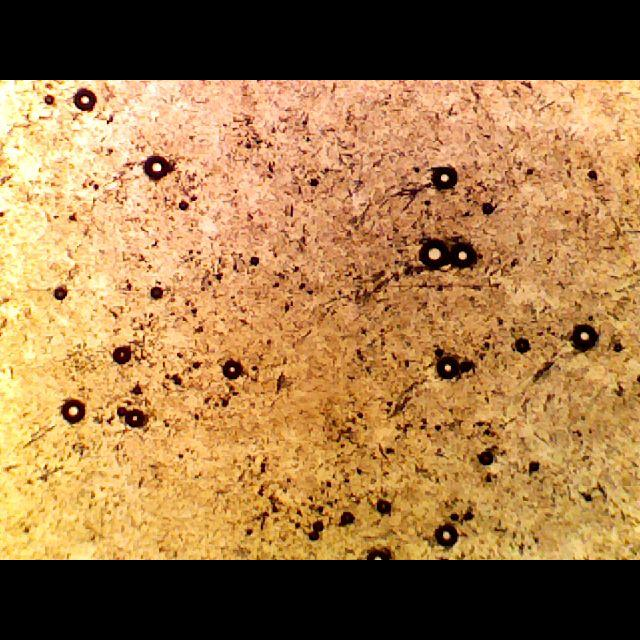microbeads: (448, 234, 482, 272), (568, 319, 596, 353), (419, 236, 446, 270), (434, 352, 460, 382), (141, 154, 167, 182), (430, 164, 458, 190), (433, 521, 461, 547), (71, 88, 97, 112), (110, 344, 134, 366), (61, 400, 83, 420), (121, 409, 145, 426), (476, 449, 494, 466), (223, 364, 241, 380), (513, 338, 531, 354), (148, 286, 164, 300), (42, 93, 56, 107), (54, 288, 70, 298)
